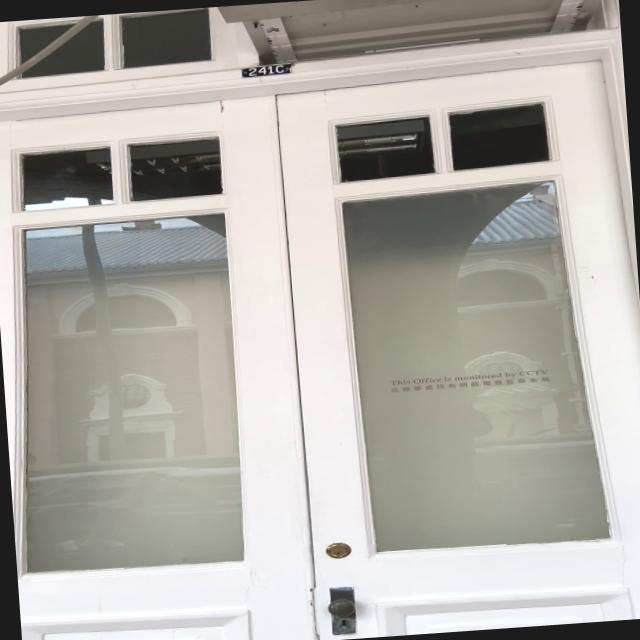room241c: (236, 61, 296, 80)
